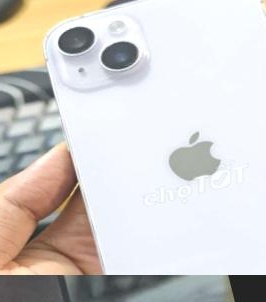scratch: (0, 275, 41, 302)
